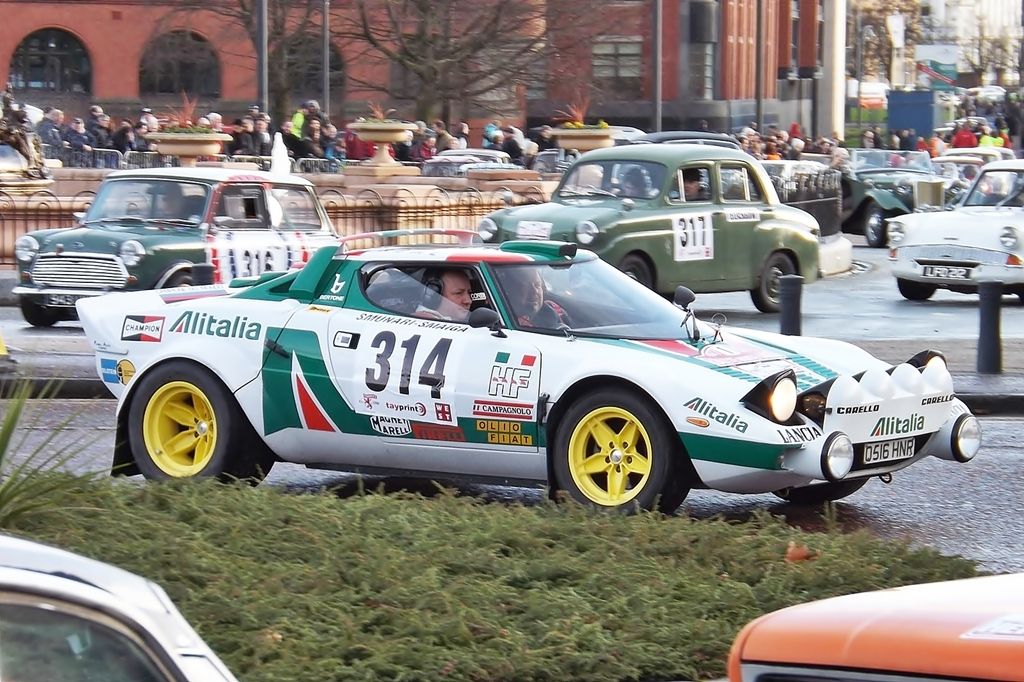Car: (10, 123, 1022, 512), (0, 540, 241, 681), (725, 568, 1022, 681)
